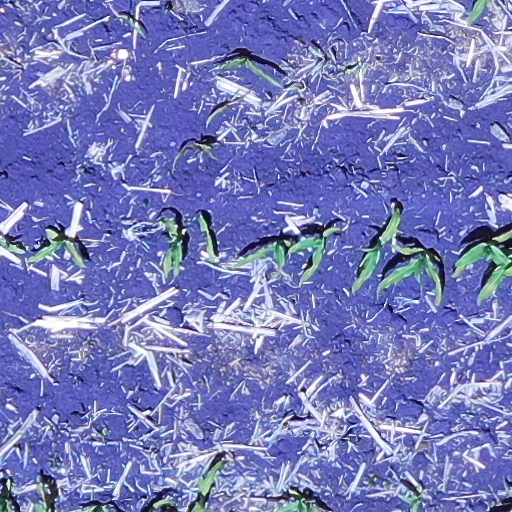planta: (352, 205, 401, 291), (380, 243, 443, 303), (285, 225, 340, 283), (29, 229, 84, 267), (232, 242, 286, 278), (159, 218, 183, 274), (200, 215, 219, 264)
